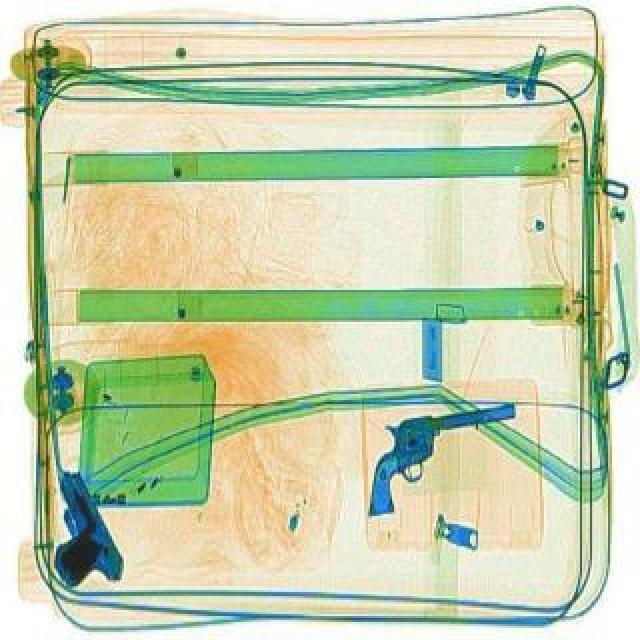gun: (338, 400, 540, 520), (36, 468, 128, 600)
